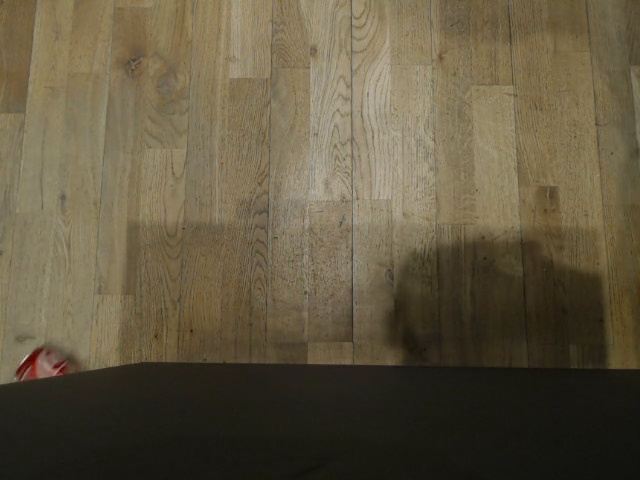cola: (12, 343, 79, 380)
